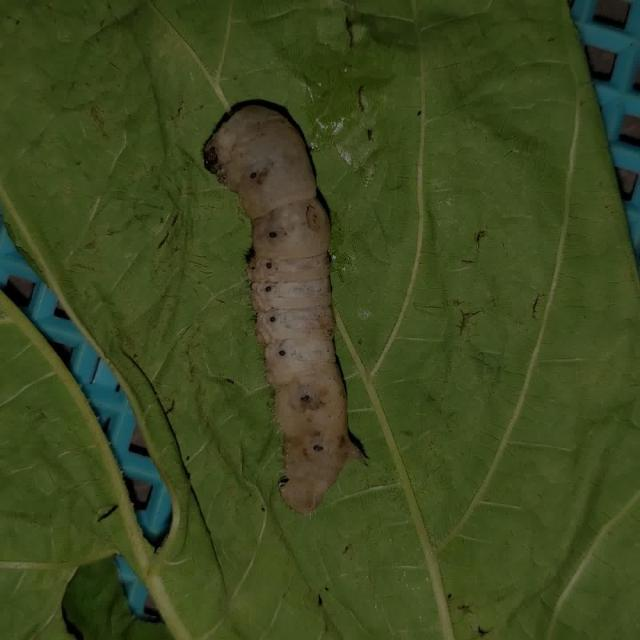Grasserie: (193, 91, 369, 519)
